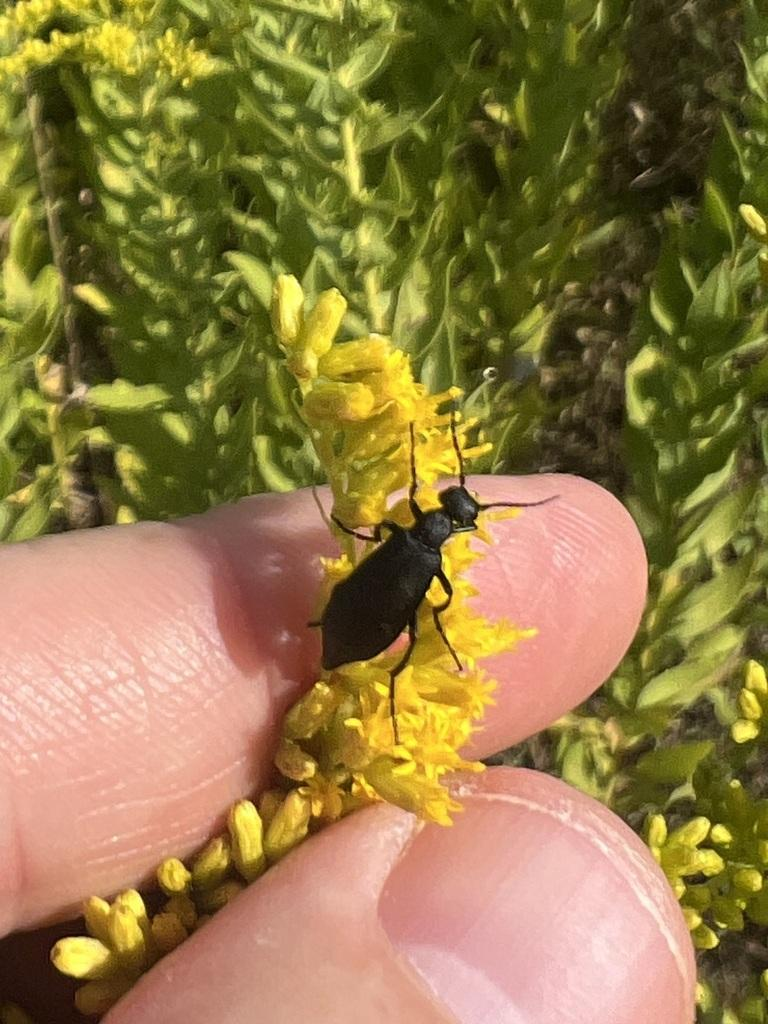blister_beetle: (262, 386, 579, 758)
